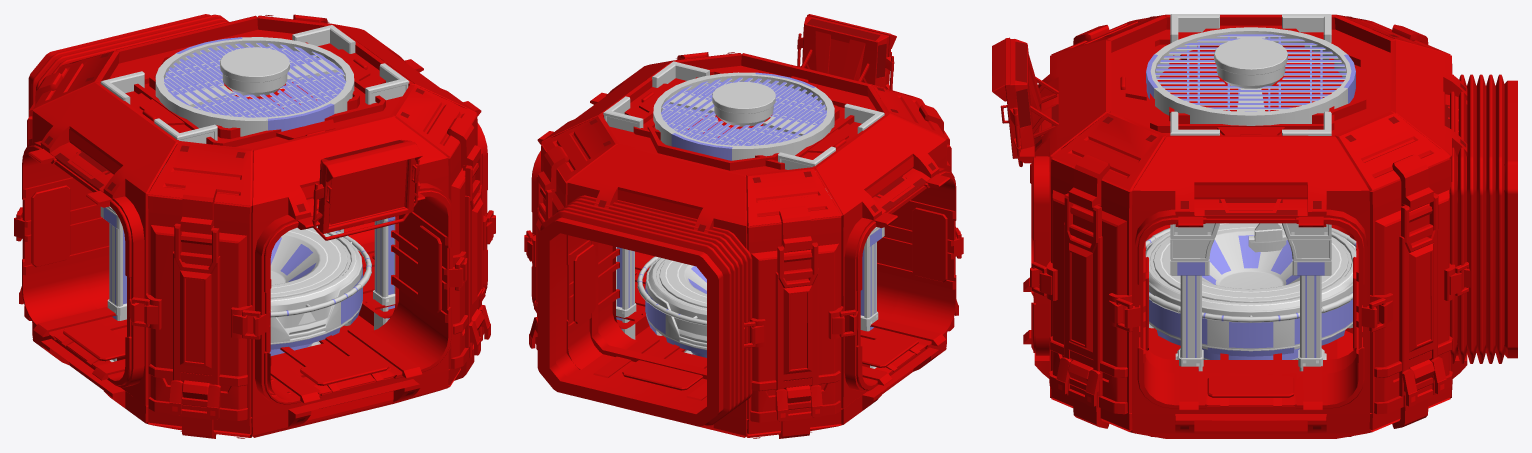
File: MiniDispenser0.5.ex.fbx
3 views of the same model, side by side, from view 1: azimuth 30°, elevation 25°; view 2: azimuth 150°, elevation 25°; view 3: azimuth 270°, elevation 25° (orthographic). The views are drawn at different scales.
Parts seen in each view (by area): view 1: SM_SmartSplitter; view 2: SM_SmartSplitter; view 3: SM_SmartSplitter.
Boxes of the visible parts, <box> form: SM_SmartSplitter: <box>14,14,495,438</box>; SM_SmartSplitter: <box>524,14,963,438</box>; SM_SmartSplitter: <box>992,14,1517,438</box>.
Bounding box in the file's own units: 413 × 322 × 467.
